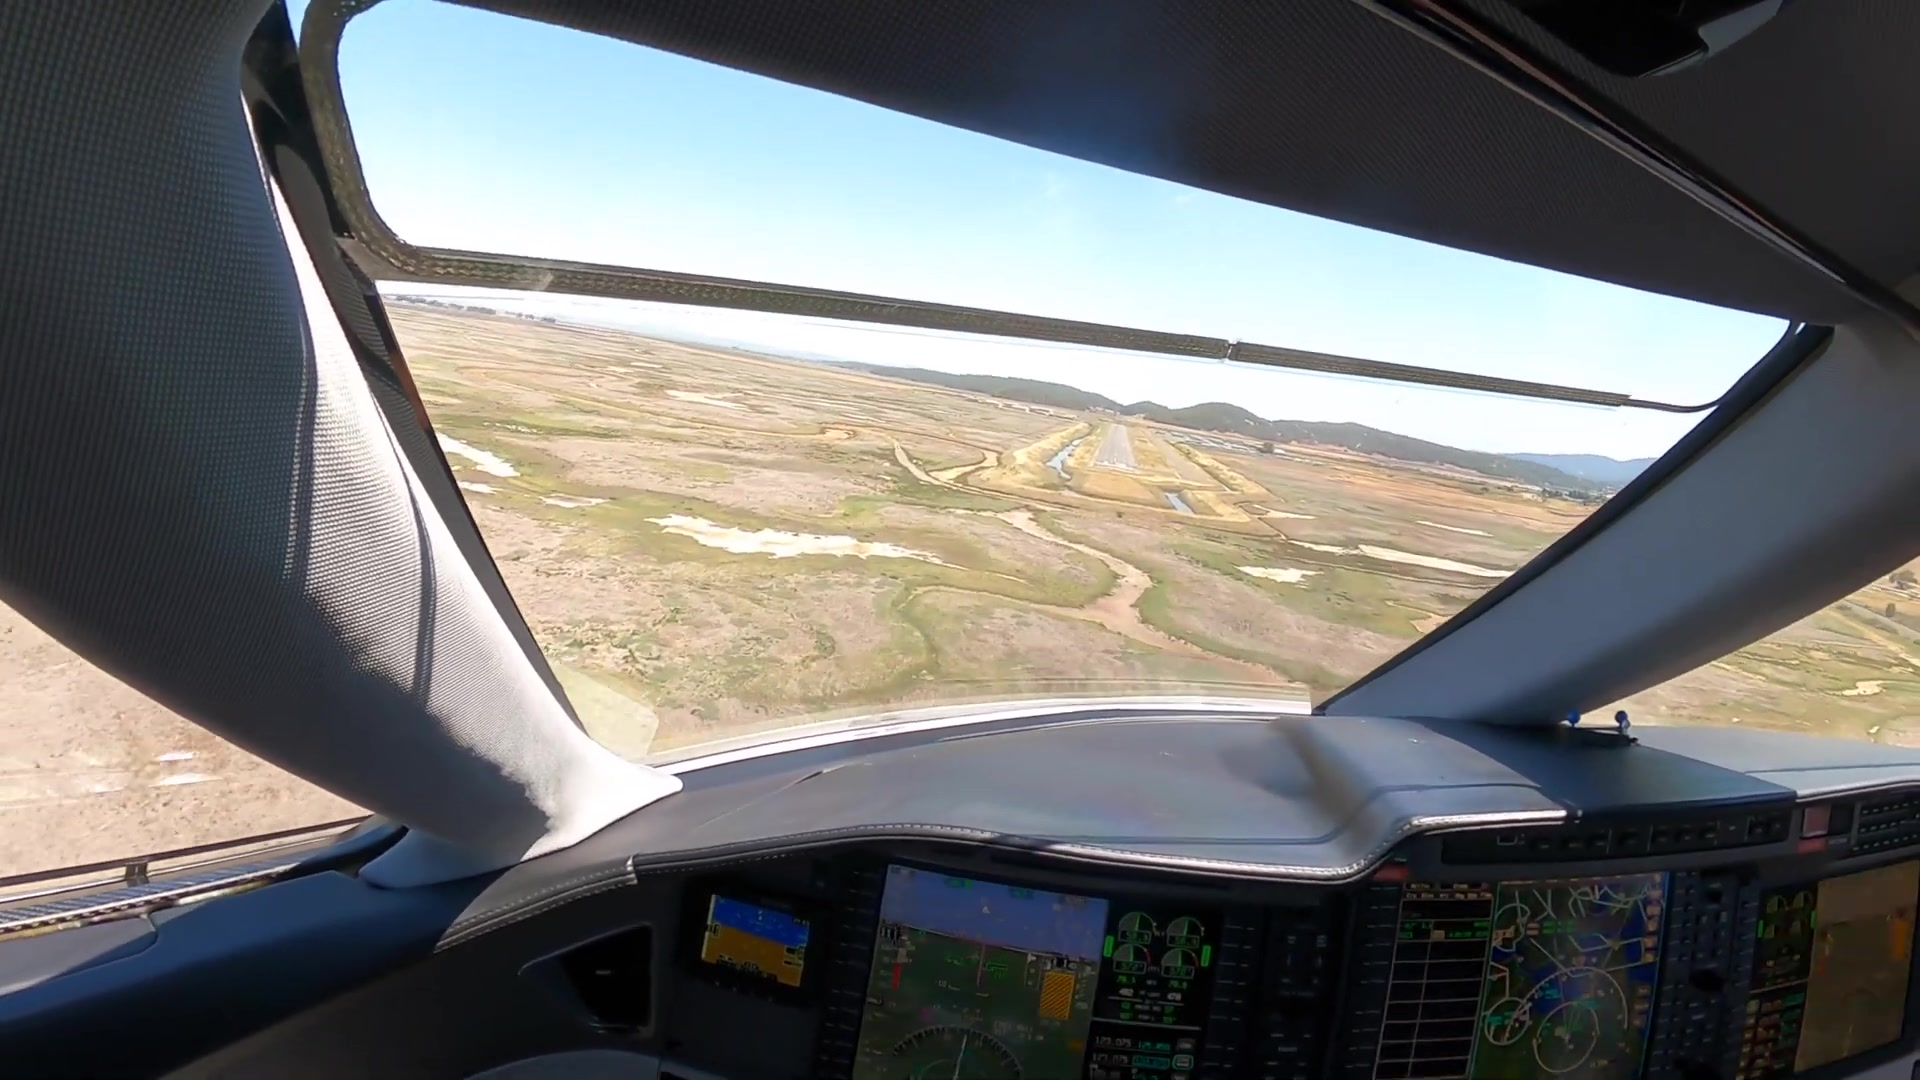runway: (1087, 423, 1137, 467)
